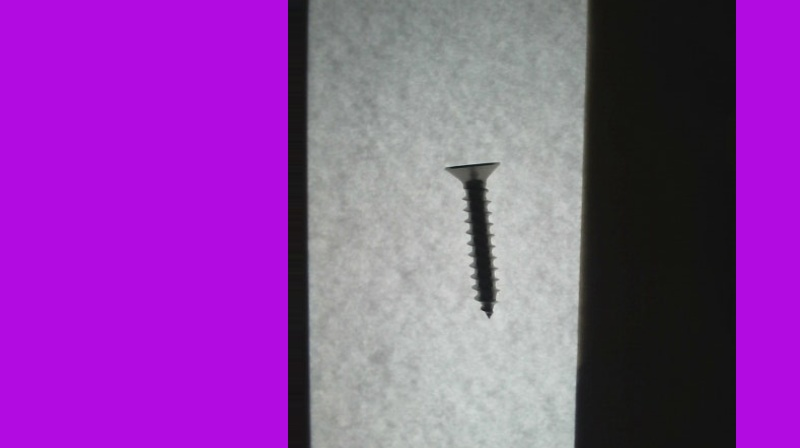S001: (441, 158, 505, 322)
